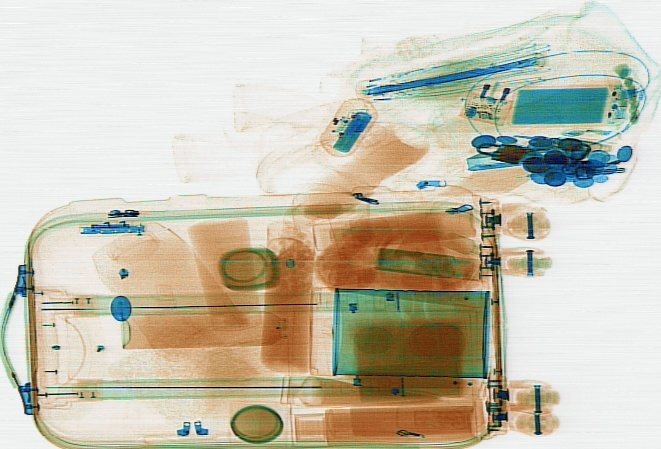pressure: (118, 308, 311, 349)
